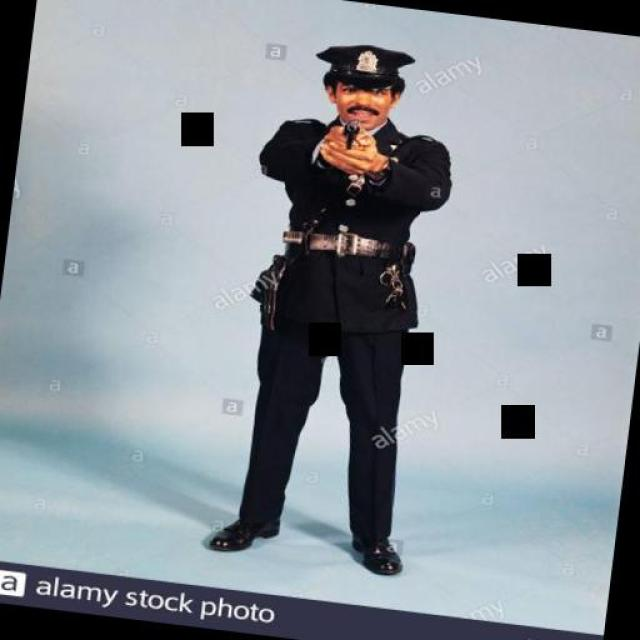gun: (332, 111, 362, 149)
